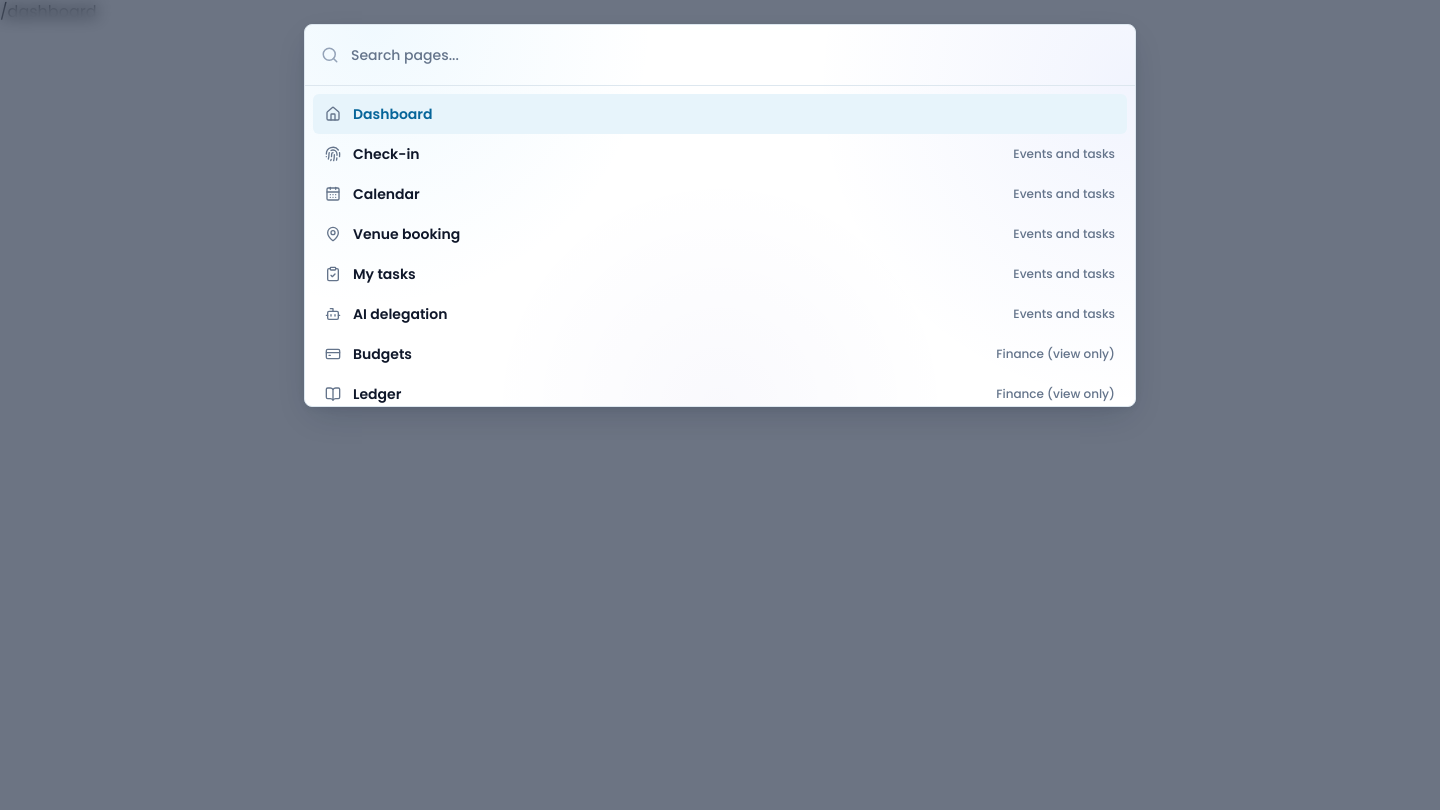
Test: CommandPalette › finds SBO_OFFICER page by its old name Participant Biometrics and shows the new label Members and fingerprints
Type "Participant Biometrics" into the dropdown labelled "Search pages" at (735, 55), box [351,37,1119,73]
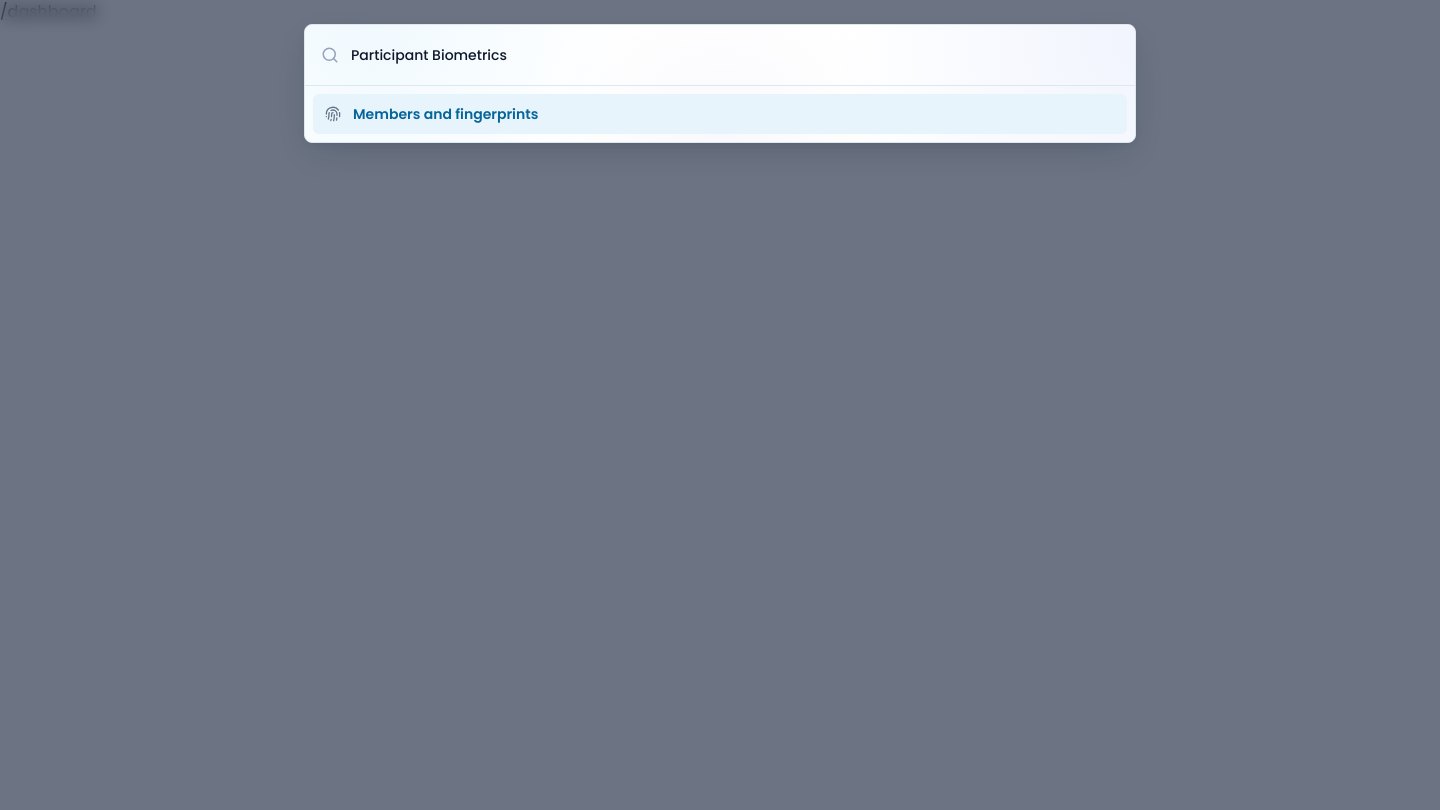
Check: the option reads "Members and fingerprints", box [313,94,1127,134]
Press Enter in the dropdown named "Search pages", box [351,37,1119,73]
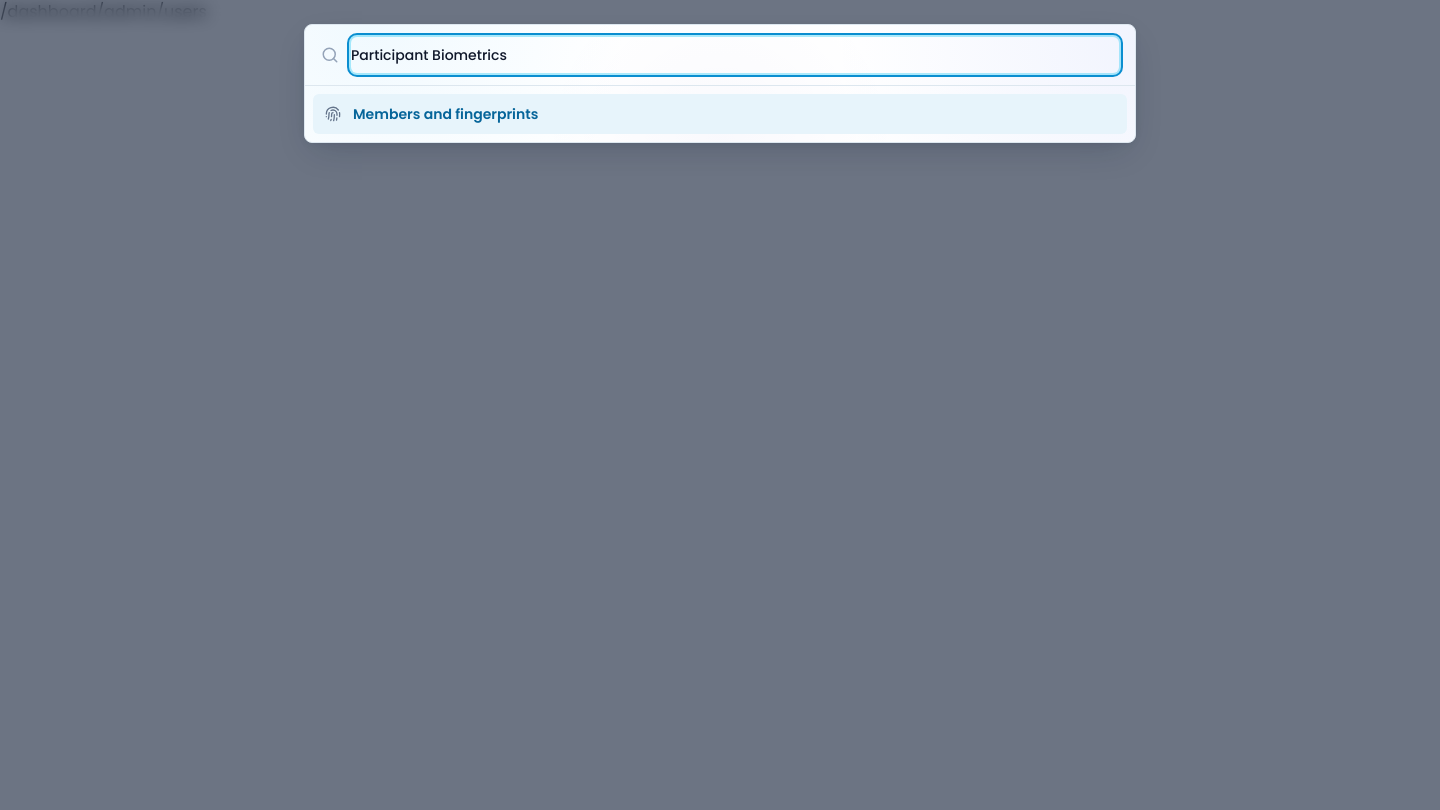
Check: the text with test id "path" reads "/dashboard/admin/users", box [0,0,207,23]
